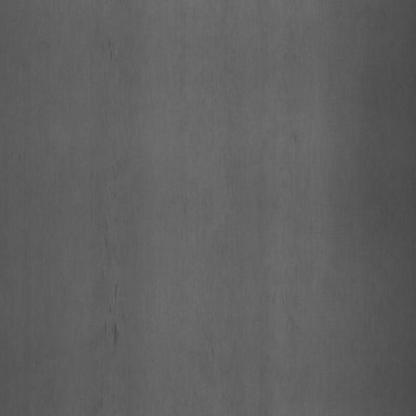silk_spot: (84, 240, 138, 372)
